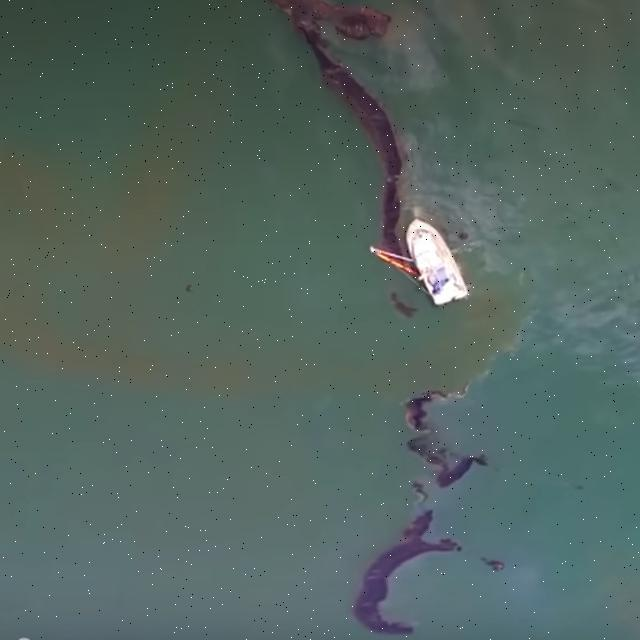oil: (279, 2, 501, 640)
